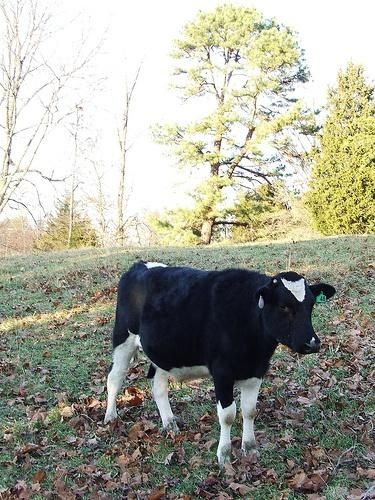cow: (101, 256, 333, 473)
